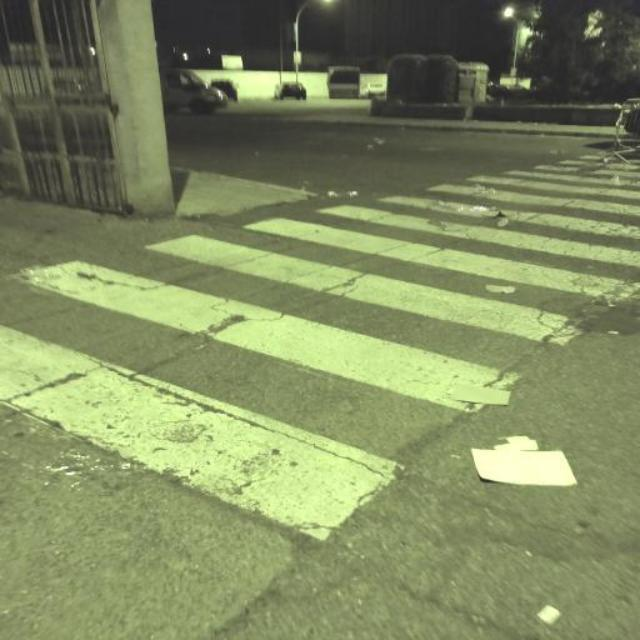sidewalk: (5, 156, 634, 538)
